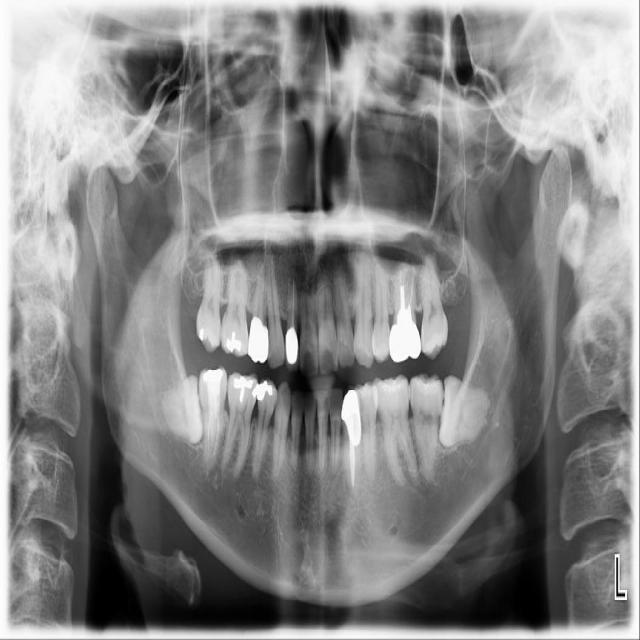52: (224, 372, 260, 417), (386, 323, 422, 365), (219, 312, 250, 358), (339, 387, 363, 446), (199, 365, 227, 411), (196, 304, 222, 352), (246, 317, 271, 365), (257, 378, 277, 422), (285, 329, 299, 372)
73: (392, 265, 420, 331), (202, 405, 225, 472), (286, 275, 301, 332), (613, 562, 620, 576)
BioHorizons Implant: (419, 251, 448, 362)
Biomet 3i Implant: (436, 375, 492, 453)
Blue Sky Bio Implant: (407, 371, 453, 485)
Caries: (196, 254, 222, 354)
Implant: (196, 365, 228, 474)
Keystone Dental Implant: (159, 375, 206, 447)
